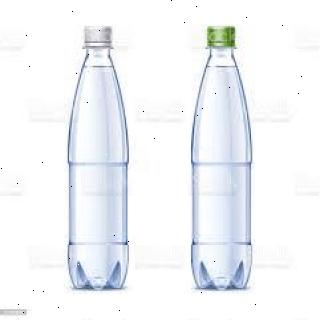Plastic-bottle: (188, 24, 257, 295), (66, 26, 135, 294)
